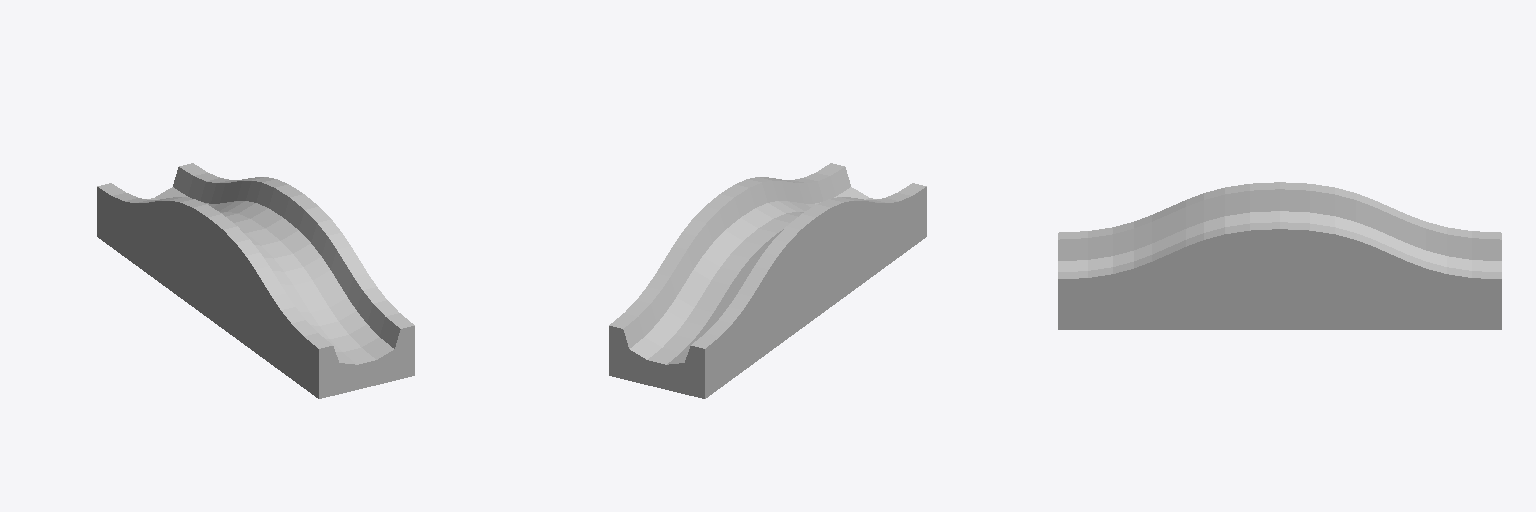
Rendered from bump-solid-b.obj.
3 renders of one model, left to right at view 1: azimuth 30°, elevation 25°; view 2: azimuth 150°, elevation 25°; view 3: azimuth 270°, elevation 25°, orthographic.
Parts seen in each view (by area): view 1: bump-solid-b; view 2: bump-solid-b; view 3: bump-solid-b.
Part boxes in pixels (bbox=[...]): bump-solid-b: bbox=[97, 163, 414, 398]; bump-solid-b: bbox=[609, 163, 926, 398]; bump-solid-b: bbox=[1058, 182, 1501, 329].
Size of the model in its own units: 1 by 1 by 4.